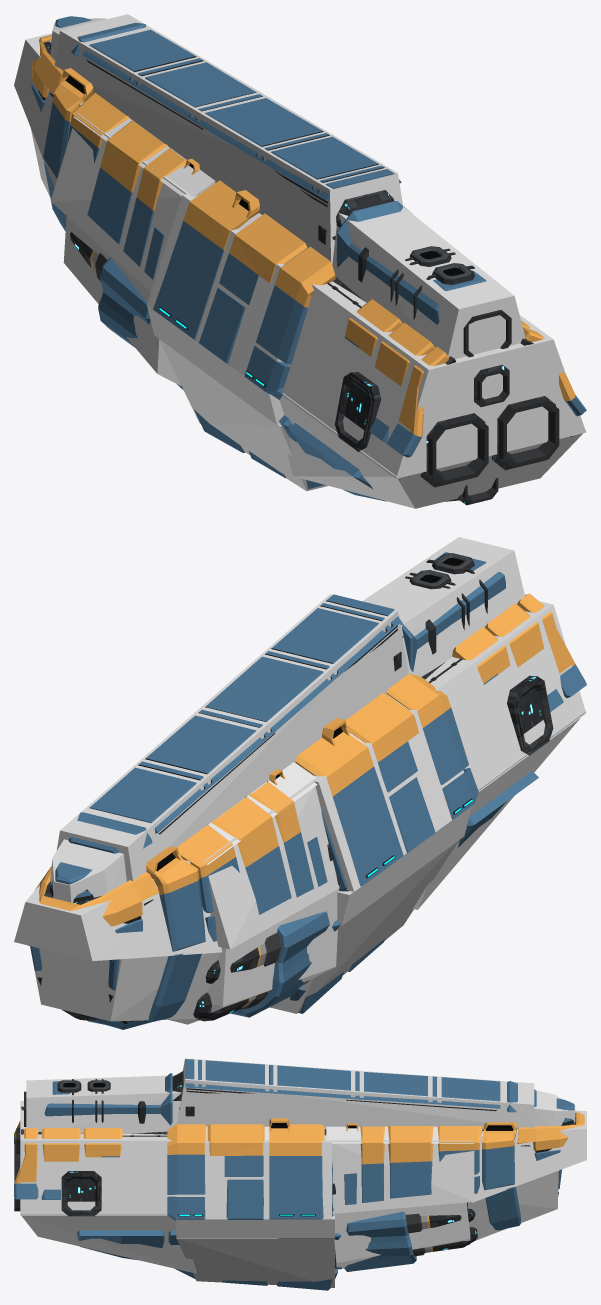
File: SM_Ship_Massive_Transport_01.fbx
The picture shows the model from 3 angles, top to bottom: view 1: azimuth 30°, elevation 25°; view 2: azimuth 150°, elevation 25°; view 3: azimuth 270°, elevation 25°; orthographic projection. The views are drawn at different scales.
Parts seen in each view (by area): view 1: SM_Ship_Massive_Transport_01_ConvexHulls, SM_Ship_Massive_Transport_01_LOD0; view 2: SM_Ship_Massive_Transport_01_ConvexHulls, SM_Ship_Massive_Transport_01_LOD0; view 3: SM_Ship_Massive_Transport_01_ConvexHulls, SM_Ship_Massive_Transport_01_LOD0.
Boxes of the visible parts, x1,y1,x2,y2 form: SM_Ship_Massive_Transport_01_ConvexHulls: (14,14,586,508); SM_Ship_Massive_Transport_01_LOD0: (31,16,586,505); SM_Ship_Massive_Transport_01_ConvexHulls: (14,537,586,1024); SM_Ship_Massive_Transport_01_LOD0: (29,552,586,1029); SM_Ship_Massive_Transport_01_ConvexHulls: (20,1058,586,1287); SM_Ship_Massive_Transport_01_LOD0: (14,1059,584,1290).
Size of the model in its own units: 30609 by 8362 by 12172.
Materials: 1 (1 with a texture image).
